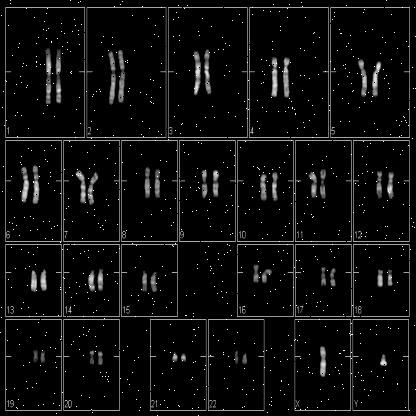1: (43, 46, 53, 107), (55, 47, 63, 108)
10: (259, 169, 269, 205), (270, 168, 280, 204)
11: (306, 169, 318, 201), (318, 166, 328, 204)
12: (385, 170, 395, 200), (374, 170, 384, 199)
13: (39, 267, 49, 294), (29, 268, 38, 295)
14: (85, 269, 96, 294), (96, 268, 104, 292)
15: (140, 268, 148, 294), (150, 269, 158, 294)
16: (251, 261, 260, 286), (261, 266, 273, 284)
17: (329, 266, 337, 288), (320, 264, 327, 288)
18: (385, 267, 394, 288), (376, 268, 384, 288)
19: (30, 346, 40, 364), (38, 349, 46, 365)
2: (105, 48, 117, 104), (116, 48, 128, 104)
20: (94, 349, 104, 367), (88, 349, 96, 367)
21: (178, 350, 188, 366), (170, 349, 178, 365)
22: (232, 345, 240, 365), (240, 350, 248, 366)
3: (204, 48, 214, 96), (192, 50, 202, 96)
4: (281, 54, 291, 100), (268, 53, 277, 99)
5: (356, 56, 368, 100), (372, 58, 383, 100)
6: (31, 164, 41, 204), (20, 165, 30, 204)
7: (74, 169, 88, 205), (86, 170, 100, 206)
8: (152, 167, 164, 201), (143, 164, 152, 200)
9: (211, 168, 222, 199), (200, 168, 208, 201)
X: (318, 343, 327, 380)
Y: (380, 352, 388, 370)
